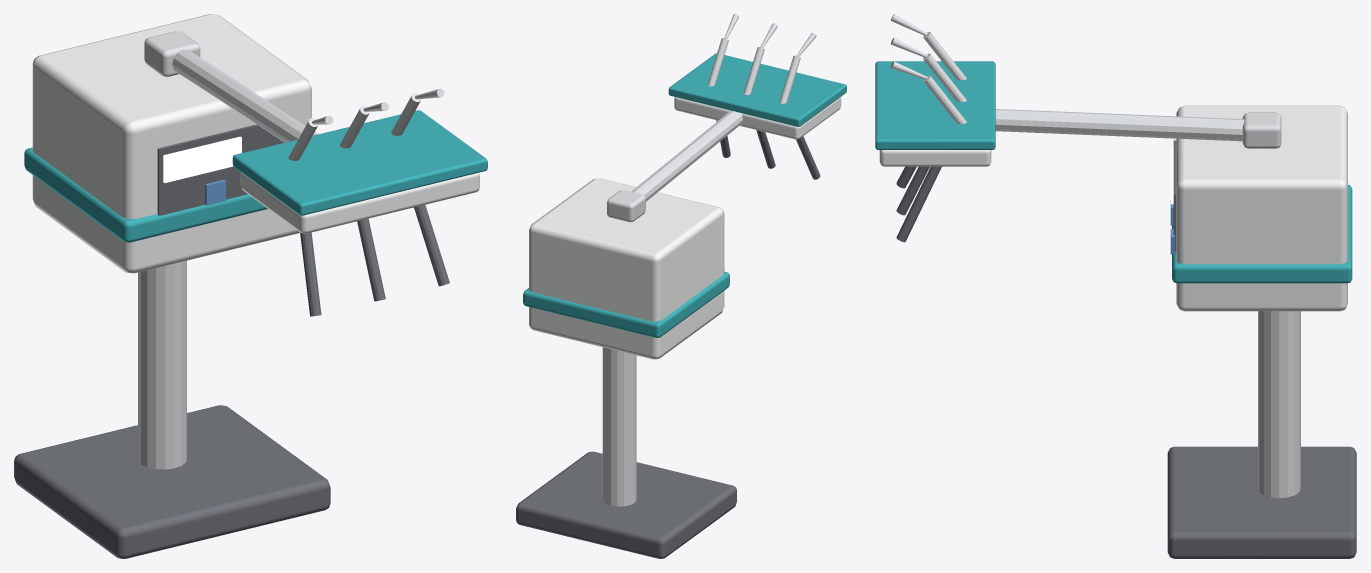
File: delivery.glb
The picture shows the model from 3 angles, left to right: view 1: azimuth 30°, elevation 25°; view 2: azimuth 150°, elevation 25°; view 3: azimuth 270°, elevation 25°; orthographic projection. The views are drawn at different scales.
Visible parts, largest first — view 1: delivery-unit, delivery-arm/teal, delivery-arm/steel, delivery-arm/white, delivery-arm/dark; view 2: delivery-unit, delivery-arm/teal, delivery-arm/steel, delivery-arm/white, delivery-arm/dark; view 3: delivery-unit, delivery-arm/steel, delivery-arm/teal, delivery-arm/white, delivery-arm/dark.
Part boxes in pixels (box(x1,y1,x2,y2)): delivery-unit: box(14, 14, 330, 558); delivery-arm/teal: box(232, 110, 487, 215); delivery-arm/steel: box(144, 31, 444, 160); delivery-arm/white: box(240, 172, 479, 233); delivery-arm/dark: box(300, 205, 449, 316); delivery-unit: box(516, 178, 736, 558); delivery-arm/teal: box(668, 53, 846, 126); delivery-arm/steel: box(607, 14, 816, 222); delivery-arm/white: box(674, 97, 841, 139); delivery-arm/dark: box(716, 120, 820, 179); delivery-unit: box(1167, 105, 1356, 558); delivery-arm/steel: box(890, 14, 1281, 148); delivery-arm/teal: box(875, 61, 995, 149); delivery-arm/white: box(879, 150, 991, 166); delivery-arm/dark: box(896, 166, 941, 242).
Bounding box in the file's own units: 0.5 × 1.23 × 1.12.
